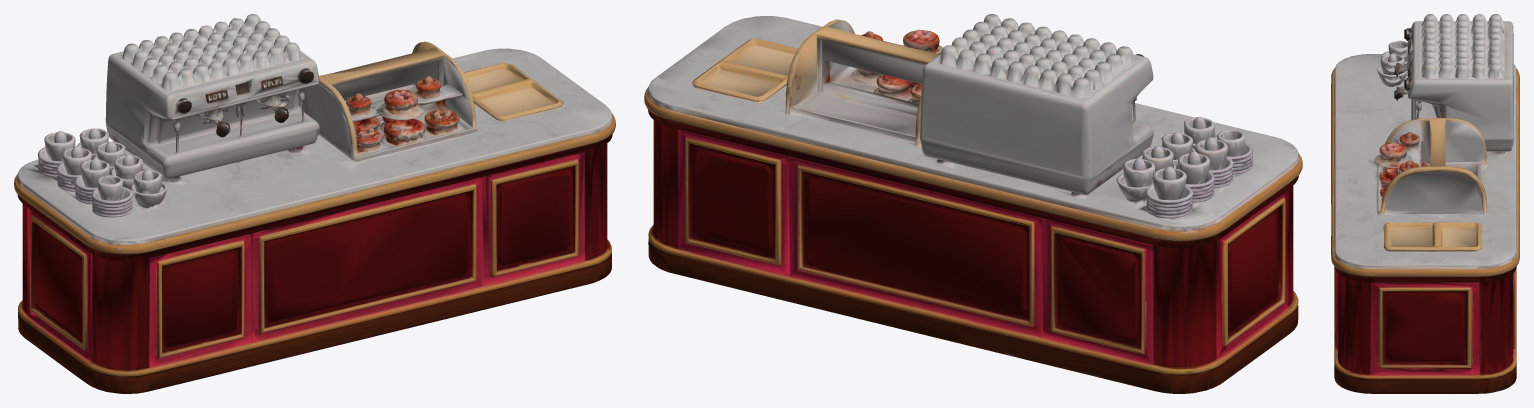
File: cafe.glb
The picture shows the model from 3 angles, left to right: view 1: azimuth 30°, elevation 25°; view 2: azimuth 150°, elevation 25°; view 3: azimuth 270°, elevation 25°; orthographic projection. The views are drawn at different scales.
Visible parts, largest first — view 1: material; view 2: material; view 3: material.
Part boxes in pixels (x1=…): material: x1=14, y1=14, x2=615, y2=393; material: x1=644, y1=14, x2=1302, y2=393; material: x1=1331, y1=14, x2=1519, y2=393.
Bounding box in the file's own units: 1.08 × 0.5036 × 0.4009.
1 material, 1 textured.
